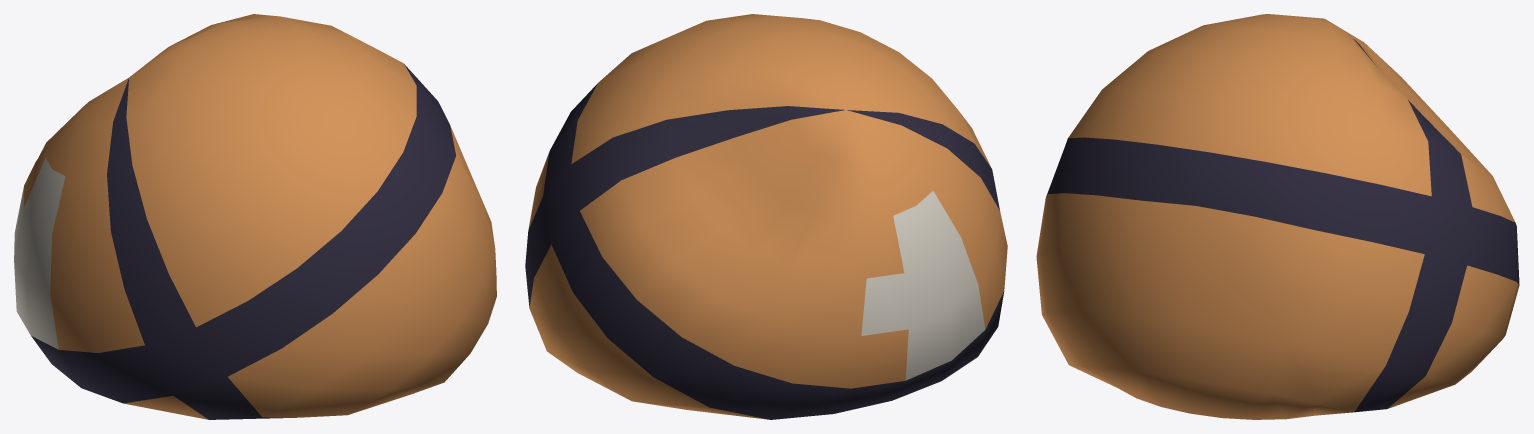
Rendered from ball.glb.
3 renders of one model, left to right at view 1: azimuth 30°, elevation 25°; view 2: azimuth 150°, elevation 25°; view 3: azimuth 270°, elevation 25°, orthographic.
Parts seen in each view (by area): view 1: Ball; view 2: Ball; view 3: Ball.
Part boxes in pixels (left/top/right/bottom): Ball: left=14, top=14, right=496, bottom=419; Ball: left=525, top=14, right=1007, bottom=419; Ball: left=1036, top=14, right=1519, bottom=419.
Size of the model in its own units: 0.2431 by 0.1662 by 0.2437.
